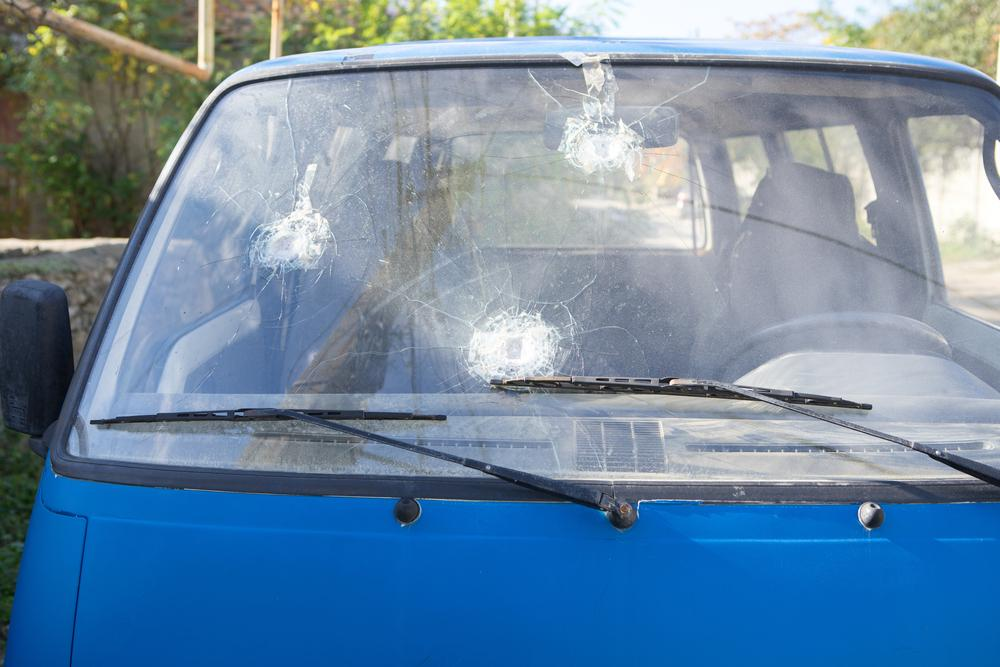glass shatter: (68, 66, 1000, 482)
